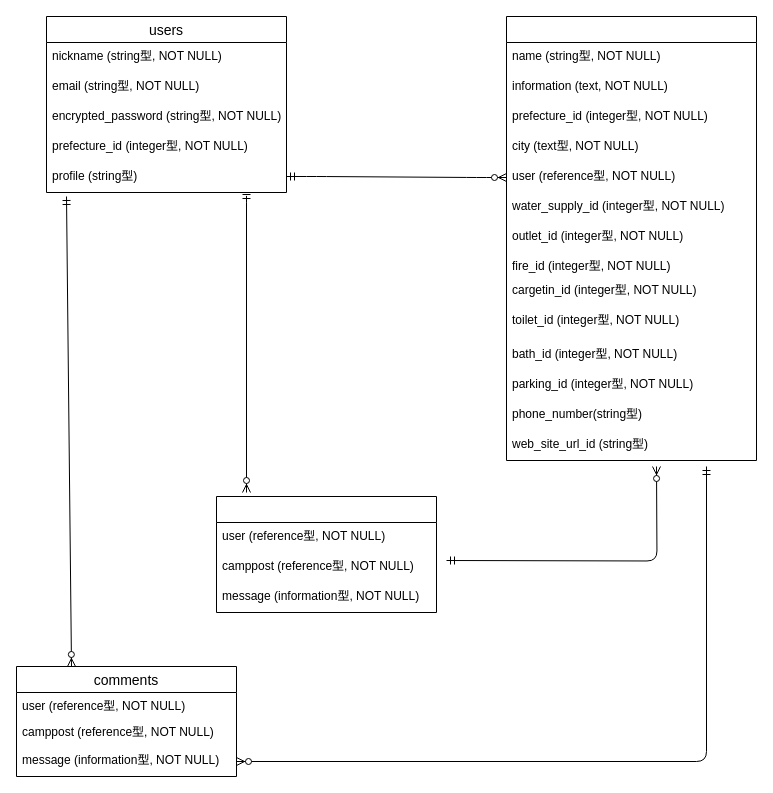
The diagram is 773 pixels wide and 793 high, and some of its shapes have lost their labels. Each missing label, with the box of its shape:
camppost: (506, 16, 756, 460)
chats: (216, 496, 436, 612)
